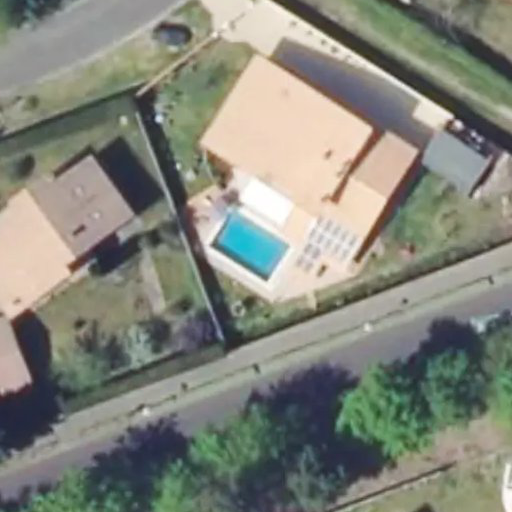pool: (211, 210, 293, 289)
